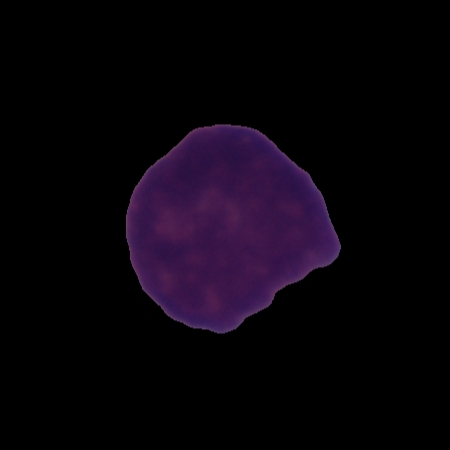ALL: (119, 119, 344, 336)
